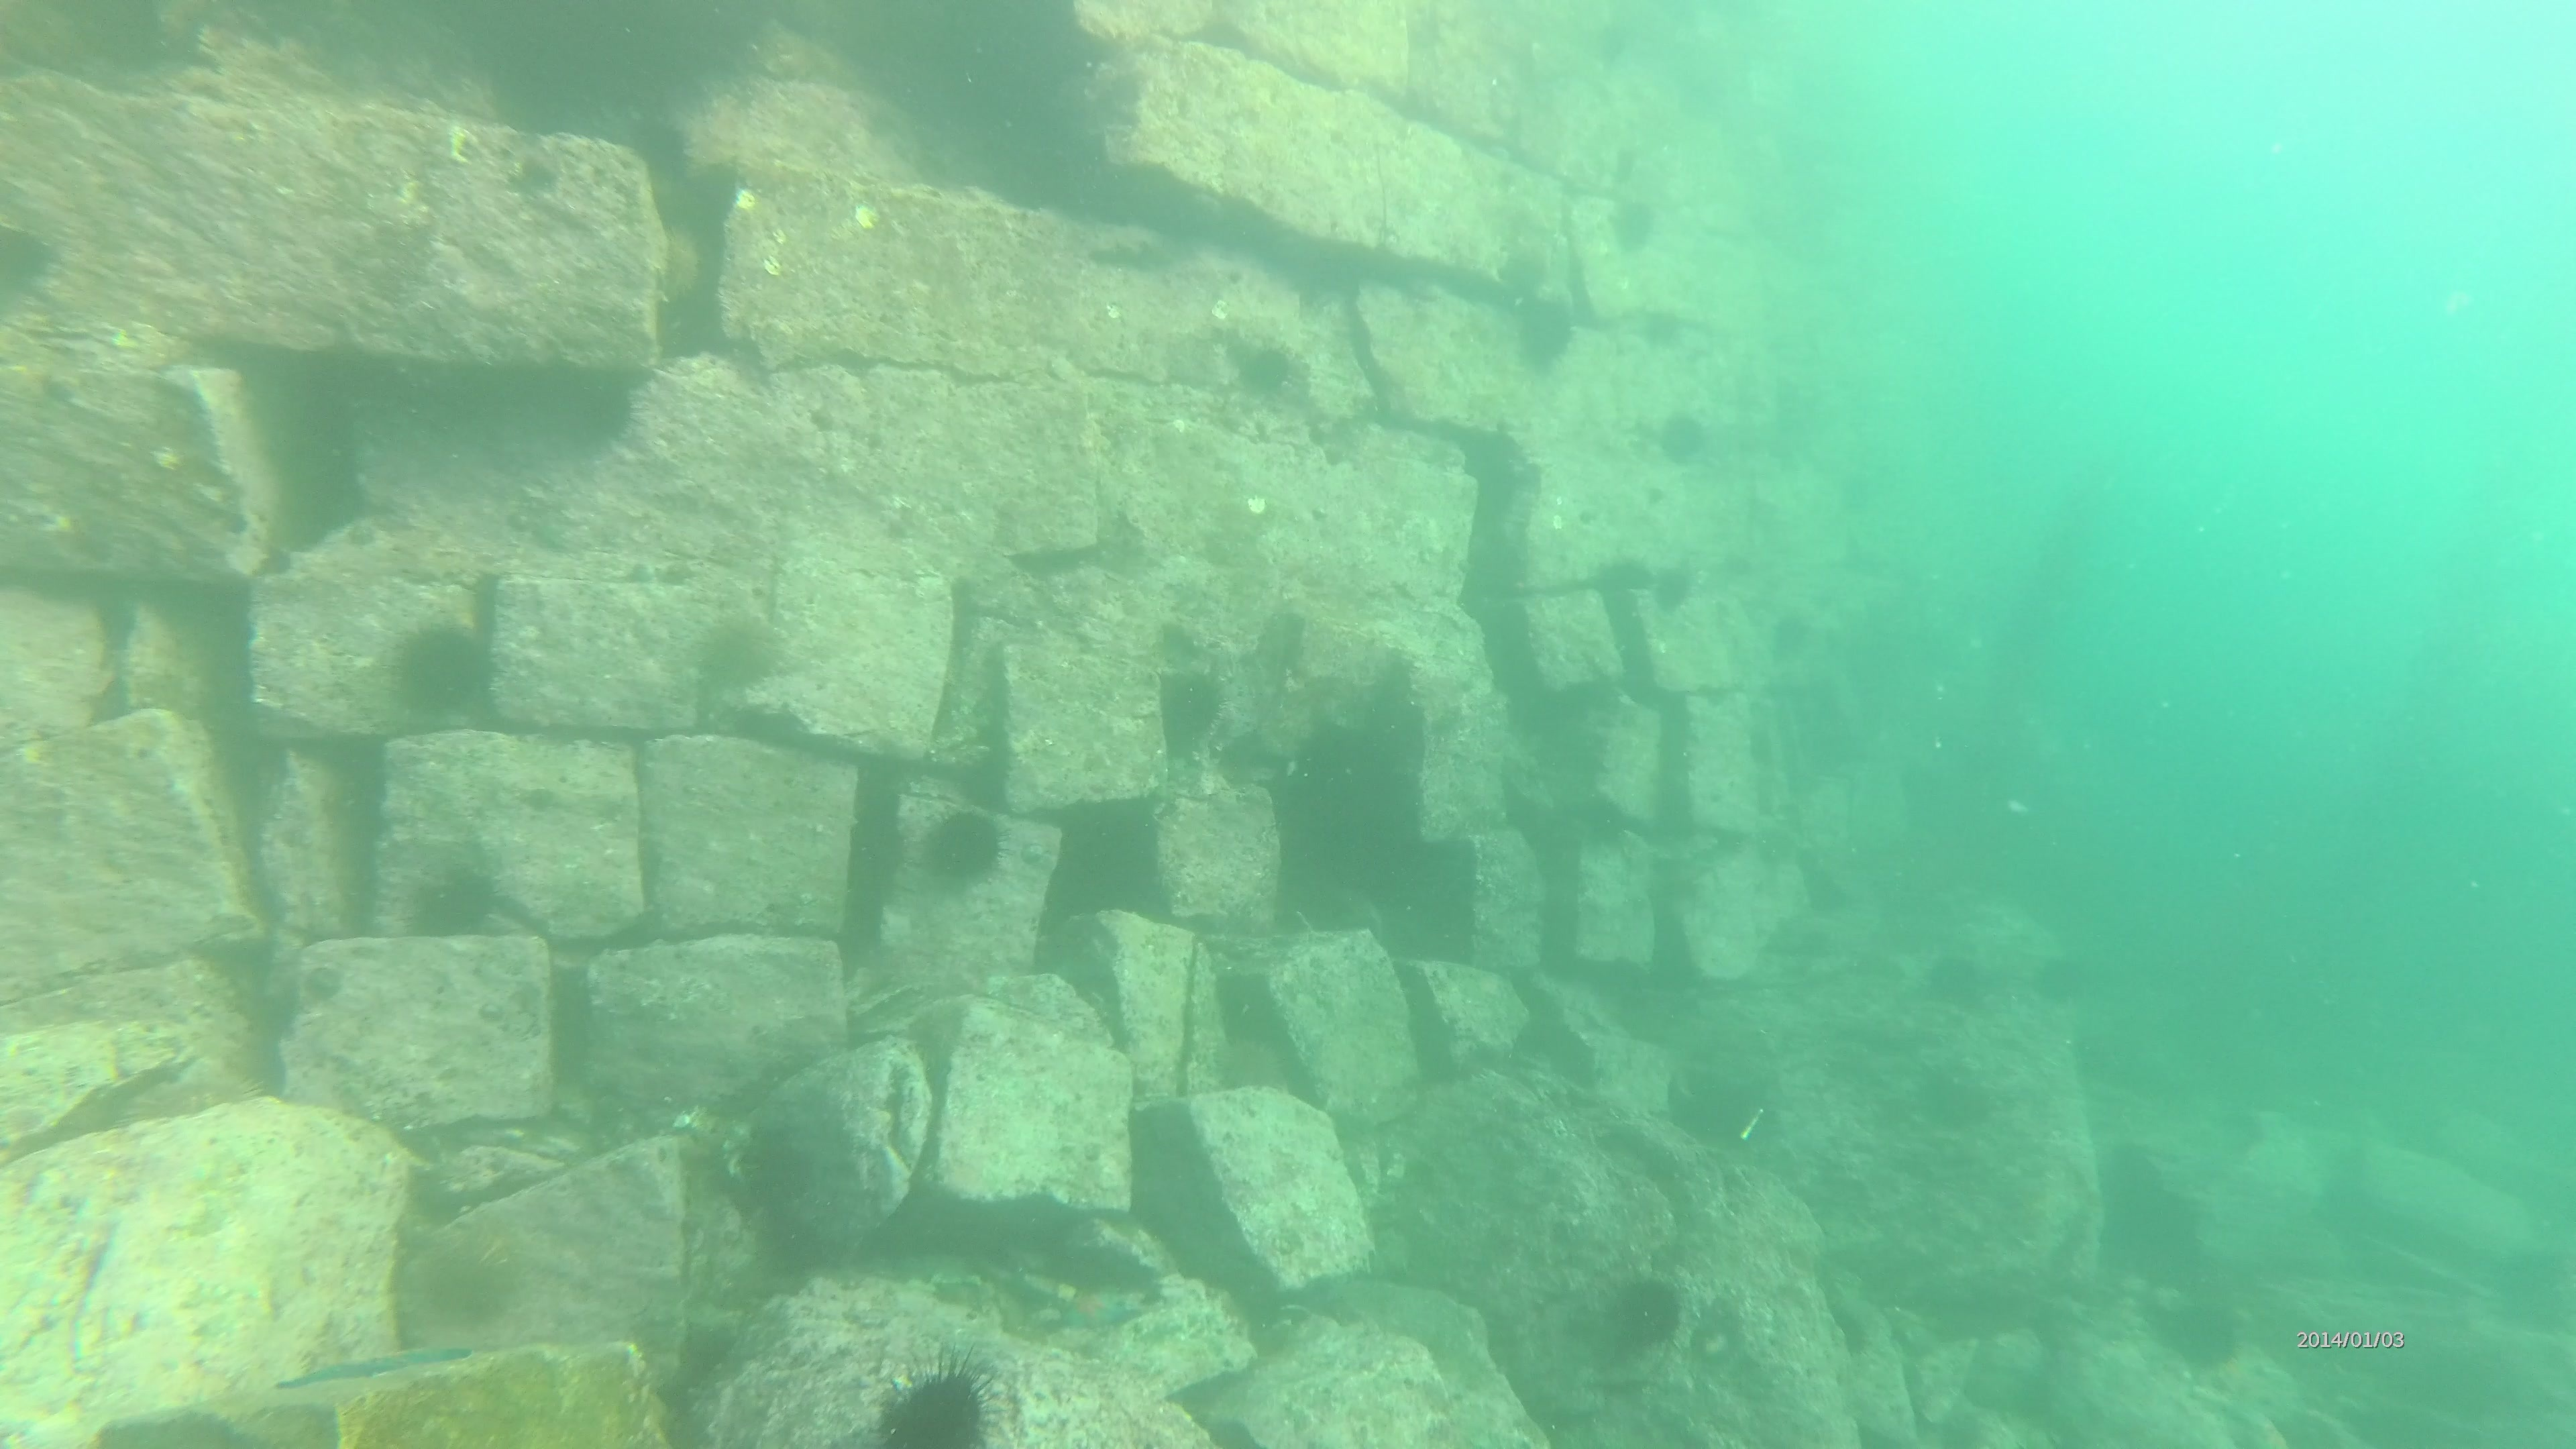echinus: (410, 1230, 556, 1339), (869, 1346, 1010, 1449), (382, 617, 513, 727), (1587, 1265, 1700, 1375), (395, 844, 515, 941), (685, 612, 801, 706), (1141, 663, 1223, 771), (916, 801, 1010, 892), (2167, 1297, 2258, 1375), (2026, 939, 2104, 1030), (2132, 1184, 2222, 1260), (2123, 1242, 2212, 1318), (2084, 1134, 2173, 1210), (1235, 327, 1307, 419), (0, 214, 67, 311), (743, 1131, 814, 1221), (1921, 939, 1989, 1016), (1652, 396, 1713, 479), (1522, 299, 1578, 379), (1642, 554, 1707, 619), (1606, 198, 1668, 264), (1766, 603, 1831, 662), (1499, 237, 1552, 299), (1635, 299, 1686, 356)
starfish: (1040, 1272, 1127, 1336)
